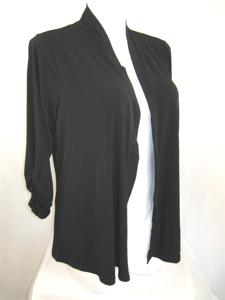S_cardigan sweater: (16, 2, 186, 284)
